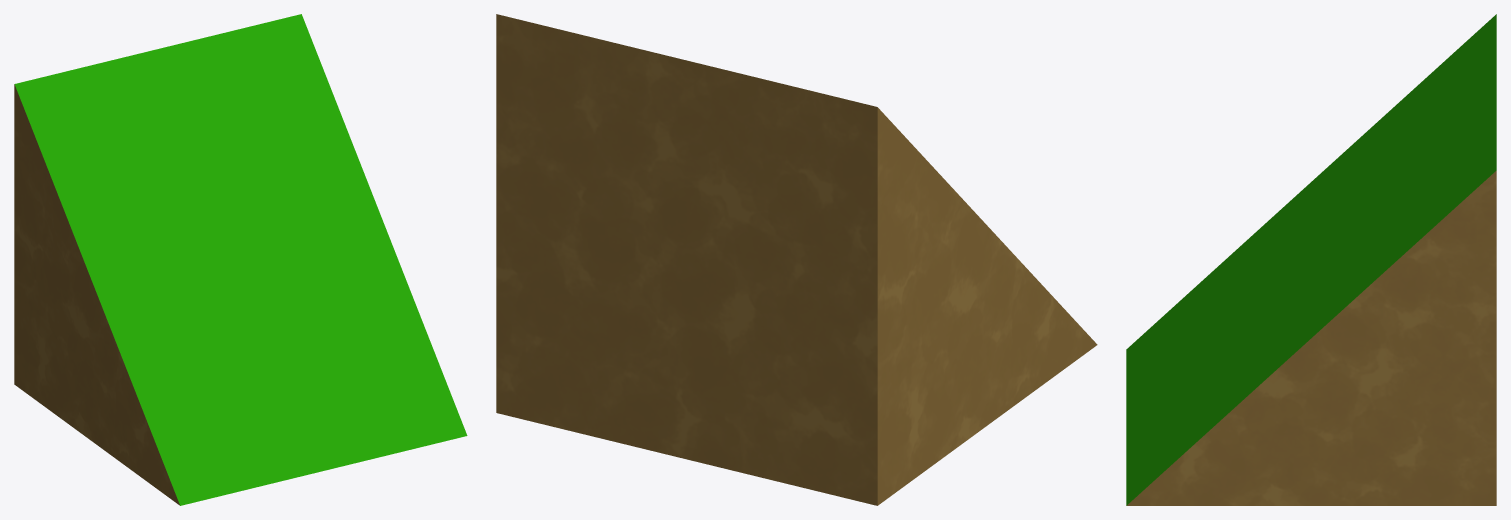
The model's file is floor08.fbx.
3 views of the same model, side by side, from view 1: azimuth 30°, elevation 25°; view 2: azimuth 150°, elevation 25°; view 3: azimuth 270°, elevation 25° (orthographic). The views are drawn at different scales.
Parts seen in each view (by area): view 1: floor08; view 2: floor08; view 3: floor08.
Boxes of the visible parts, box(x1,y1,x2,y2) form: floor08: box(14, 14, 467, 505); floor08: box(496, 14, 1097, 505); floor08: box(1126, 14, 1496, 505).
Size of the model in its own units: 10 by 10 by 10.
